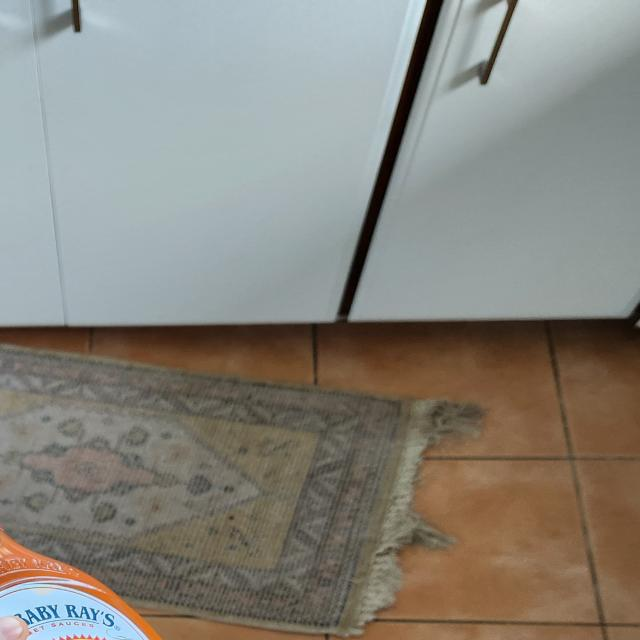buffalo sauce: (0, 441, 234, 640)
